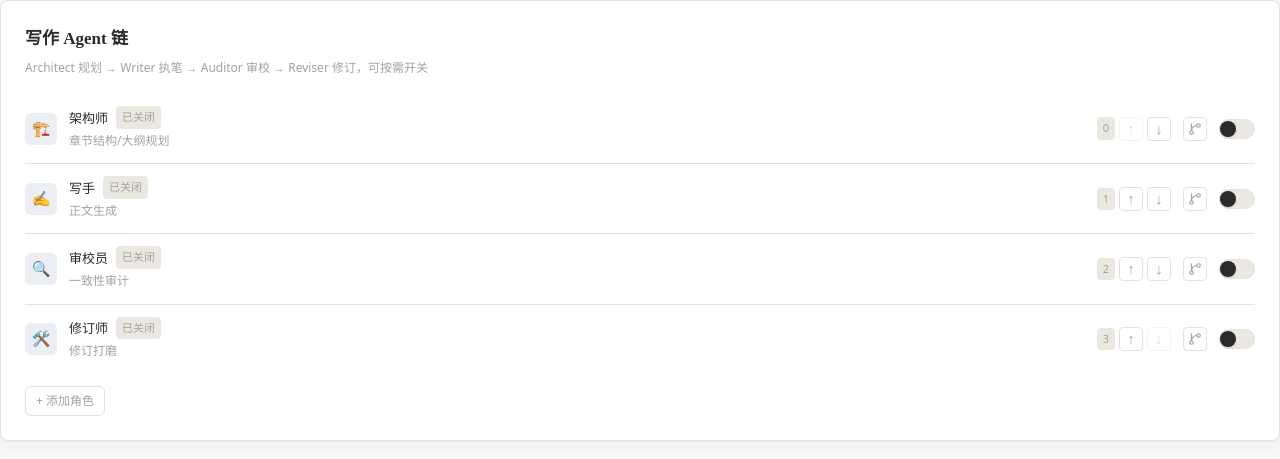
it: AgentChainCard — F42 模型选择（spec §5.2） › 关闭 → setConfig null + Select 消失（三态映射 3）
Note: 先打开（Select 出现）
Click the switch named "架构师": click(1237, 129) x1=1219 y1=119 x2=1255 y2=139
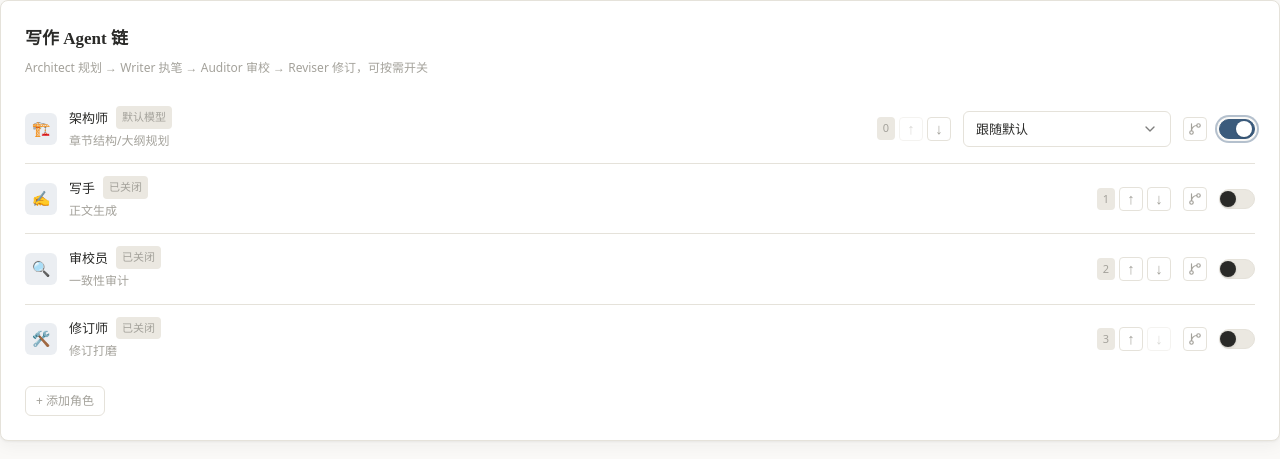
Result: the dropdown with test id "agent-model-select-agent_architect" is shown at x1=963 y1=111 x2=1171 y2=147
Note: 再关闭 → null + Select 不渲染
Click the switch named "架构师": click(1237, 129) x1=1219 y1=119 x2=1255 y2=139
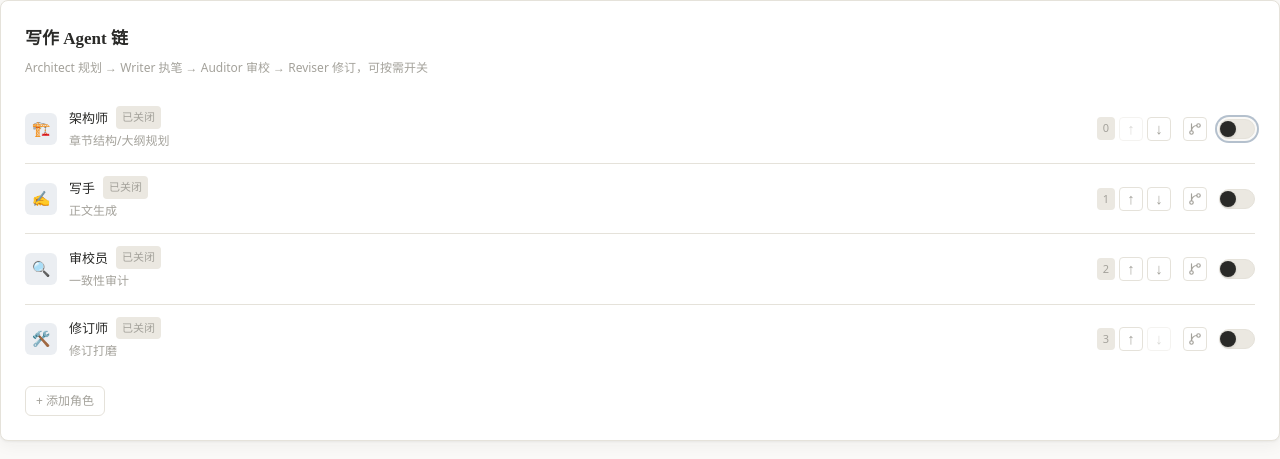
Result: the dropdown with test id "agent-model-select-agent_architect" is gone
